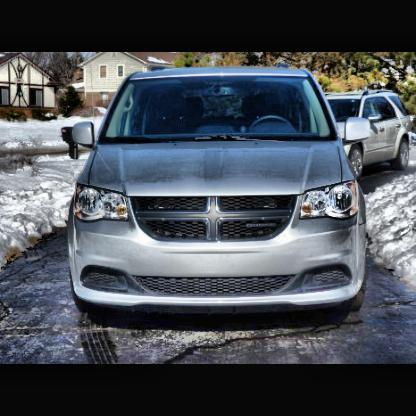Ram C-V Cargo Van Minivan 2012: (65, 66, 371, 307)
